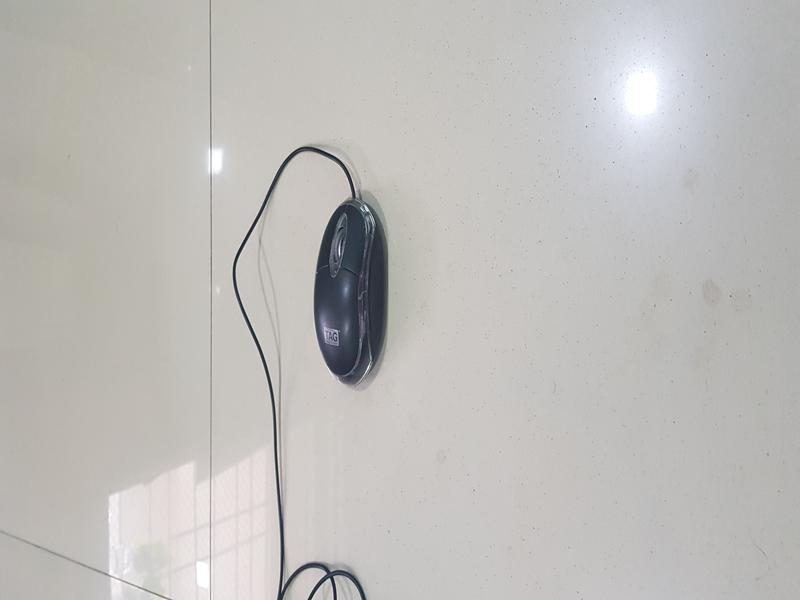mouse: (299, 183, 387, 384)
